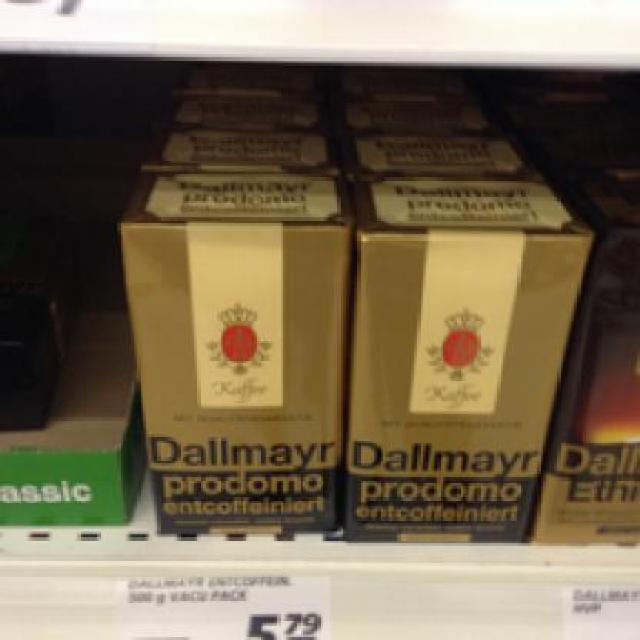Coffee: (343, 174, 588, 543), (114, 166, 354, 534)
